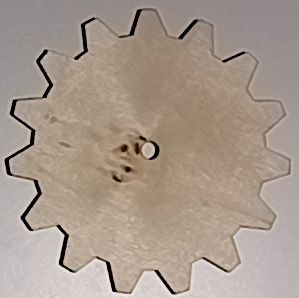Points: (119, 142, 130, 154), (110, 174, 123, 184), (133, 142, 142, 156), (123, 165, 134, 174), (138, 134, 148, 143)
